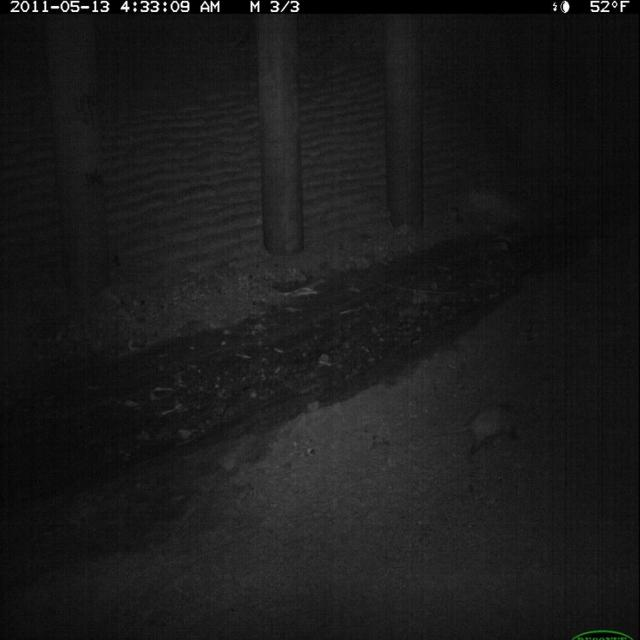opossum: (435, 395, 532, 465)
